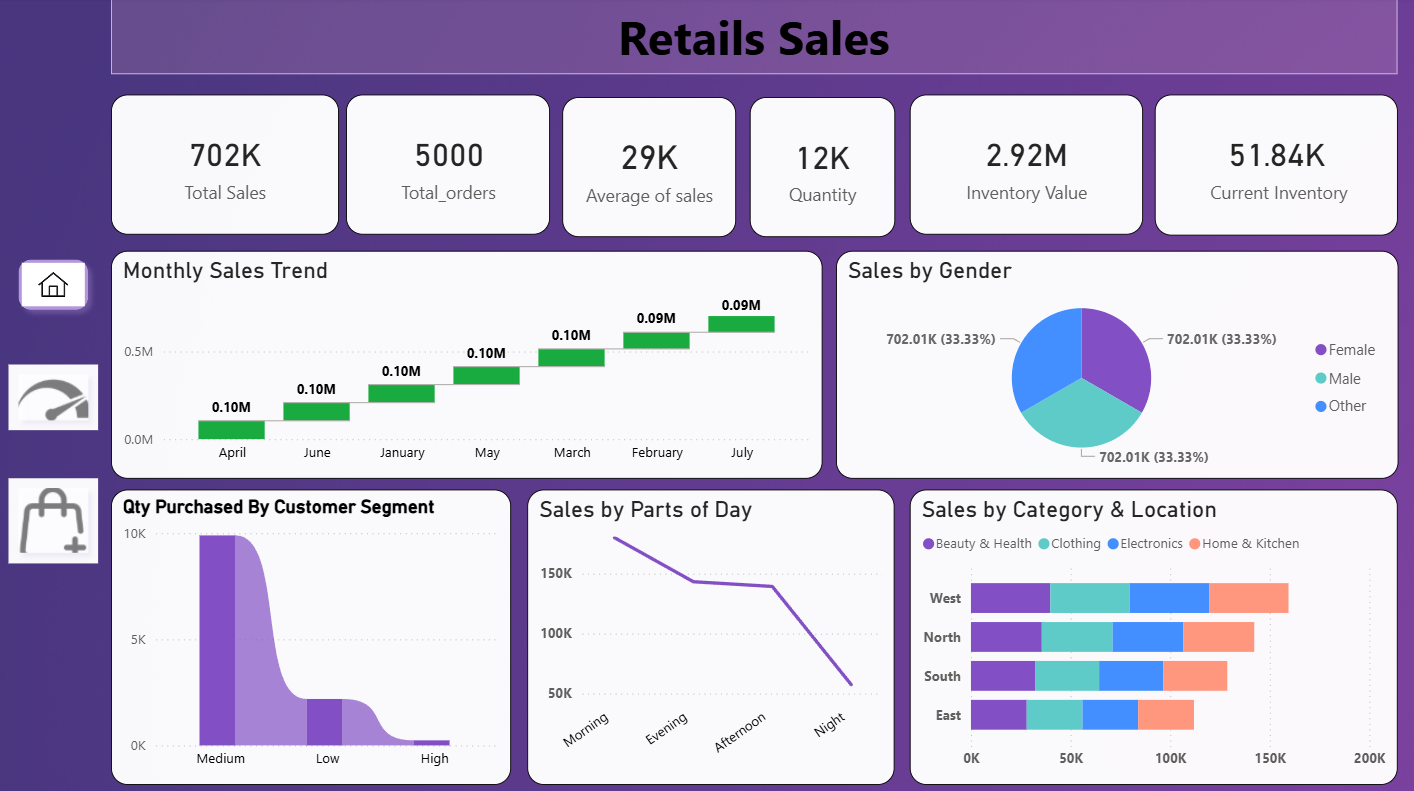

The dashboard page shown, as its layout file describes it:
{"tool":"powerbi","page":{"name":"Sales Analysis","canvas":[1280,720],"ordinal":1},"visuals":[{"type":"card","fields":{"Values":["Sum(sales_bucket.total_sales)"]},"box":[103.6,88.4,205.7,126.4],"z":0},{"type":"card","fields":{"Values":["Sum(sales_transaction.QuantityPurchased)"]},"box":[679.5,89.9,131,126.4],"z":1000},{"type":"card","fields":{"Values":["Sum(sales_bucket.total_orders)"]},"box":[315.4,88.4,184.3,126.4],"z":2000},{"type":"card","fields":{"Values":["Avg(sales_bucket.total_sales)"]},"box":[510.4,89.9,156.9,126.4],"z":3000},{"type":"actionButton","box":[11.5,228,80.8,63.5],"z":4000},{"type":"waterfallChart","title":"Monthly Sales Trend","fields":{"Category":["cat_wise_mnthly_sales_trend.Month_Name"],"Y":["Sum(cat_wise_mnthly_sales_trend.Total_Sales)"]},"box":[103.6,228.5,641.4,205.7],"z":5000},{"type":"pieChart","title":"Sales by Gender","fields":{"Category":["customer_profiles.Gender"],"Y":["Sum(cat_wise_mnthly_sales_trend.Total_Sales)"]},"box":[757.2,228.5,507.3,205.7],"z":6000},{"type":"ribbonChart","title":"Qty Purchased By Customer Segment","fields":{"Category":["cust_segment.customer_Segment"],"Y":["Sum(sales_transaction.QuantityPurchased)"]},"box":[103.9,443.9,360.7,266.6],"z":7000},{"type":"lineChart","title":"Sales by Parts of Day","fields":{"Category":["sales_bucket.Bucket_Category"],"Y":["Sum(sales_bucket.total_sales)"]},"box":[479.4,443.9,331.4,266.6],"z":8000},{"type":"barChart","title":"Sales by Category & Location","fields":{"Category":["customer_profiles.Location"],"Y":["Sum(cust_sales_cumulative_percent.Total_sales)"],"Series":["cat_curinv_invvalue.category"]},"box":[824.2,443.9,440.2,266.6],"z":9000},{"type":"card","fields":{"Values":["Sum(cat_curinv_invvalue.Current_Inventory)"]},"box":[1044.6,88,219.3,127],"z":10000},{"type":"card","fields":{"Values":["Sum(cat_curinv_invvalue.Inventory_Value)"]},"box":[823.7,87.8,210.6,126.6],"z":11000},{"type":"textbox","box":[103.9,0,1160,69.3],"z":12000},{"type":"actionButton","title":"Retail Analysis","box":[11.5,331.8,80.8,59.2],"z":13000},{"type":"actionButton","title":"Bucket Analysis","box":[11.5,434.3,80.8,76.5],"z":14000}]}

Visuals, with their boxes in screenshot pixels (x1, y1, x2, y2), scaled from the page's 1280x720 canvas onto the 1414x791 screenshot:
card - Sum(sales_bucket.total_sales): locate(114, 97, 342, 236)
card - Sum(sales_transaction.QuantityPurchased): locate(751, 99, 895, 238)
card - Sum(sales_bucket.total_orders): locate(348, 97, 552, 236)
card - Avg(sales_bucket.total_sales): locate(564, 99, 737, 238)
actionButton: locate(13, 250, 102, 320)
"Monthly Sales Trend" waterfallChart: locate(114, 251, 823, 477)
"Sales by Gender" pieChart: locate(836, 251, 1397, 477)
"Qty Purchased By Customer Segment" ribbonChart: locate(115, 488, 513, 781)
"Sales by Parts of Day" lineChart: locate(530, 488, 896, 781)
"Sales by Category & Location" barChart: locate(910, 488, 1397, 781)
card - Sum(cat_curinv_invvalue.Current_Inventory): locate(1154, 97, 1396, 236)
card - Sum(cat_curinv_invvalue.Inventory_Value): locate(910, 96, 1143, 236)
textbox: locate(115, 0, 1396, 76)
"Retail Analysis" actionButton: locate(13, 365, 102, 430)
"Bucket Analysis" actionButton: locate(13, 477, 102, 561)
